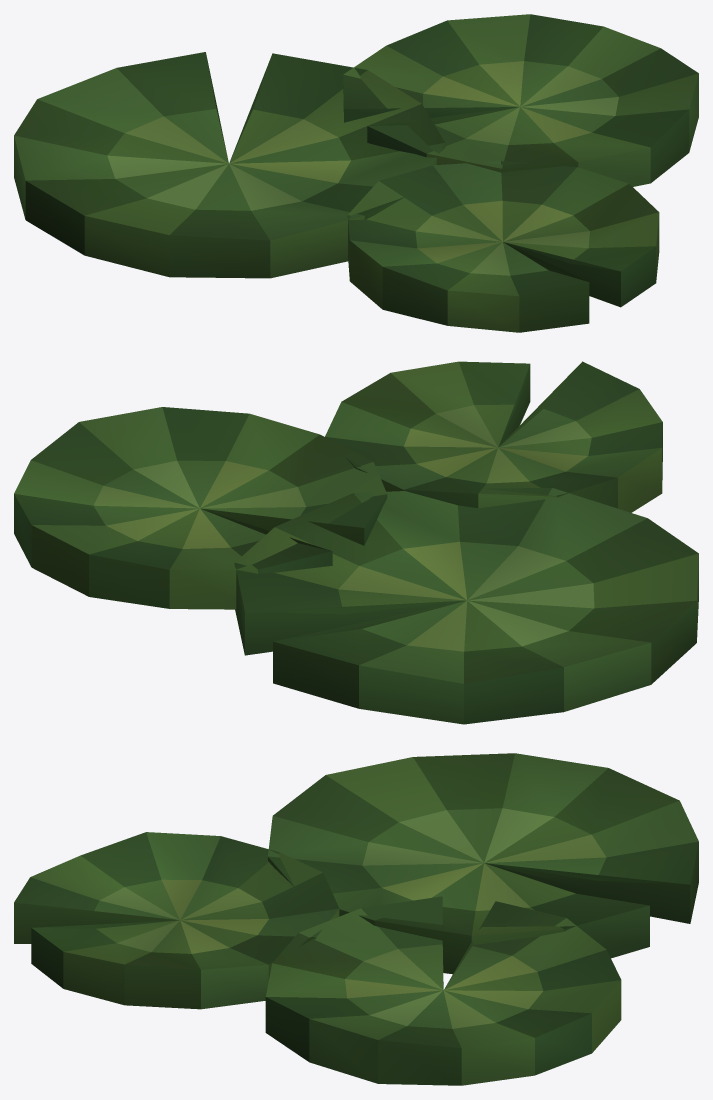
Rendered from lily-pad-3.glb.
3 renders of one model, top to bottom at view 1: azimuth 30°, elevation 25°; view 2: azimuth 150°, elevation 25°; view 3: azimuth 270°, elevation 25°, orthographic. The views are drawn at different scales.
Visible parts, largest first — view 1: lily-pad-3; view 2: lily-pad-3; view 3: lily-pad-3.
Part boxes in pixels (x1,y1,x2,y2): lily-pad-3: [14, 14, 698, 332]; lily-pad-3: [14, 361, 698, 724]; lily-pad-3: [14, 753, 698, 1085].
Size of the model in its own units: 0.6964 by 0.0537 by 0.6759.
